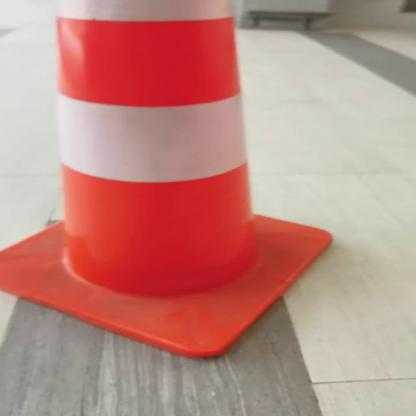cone: (1, 0, 348, 370)
